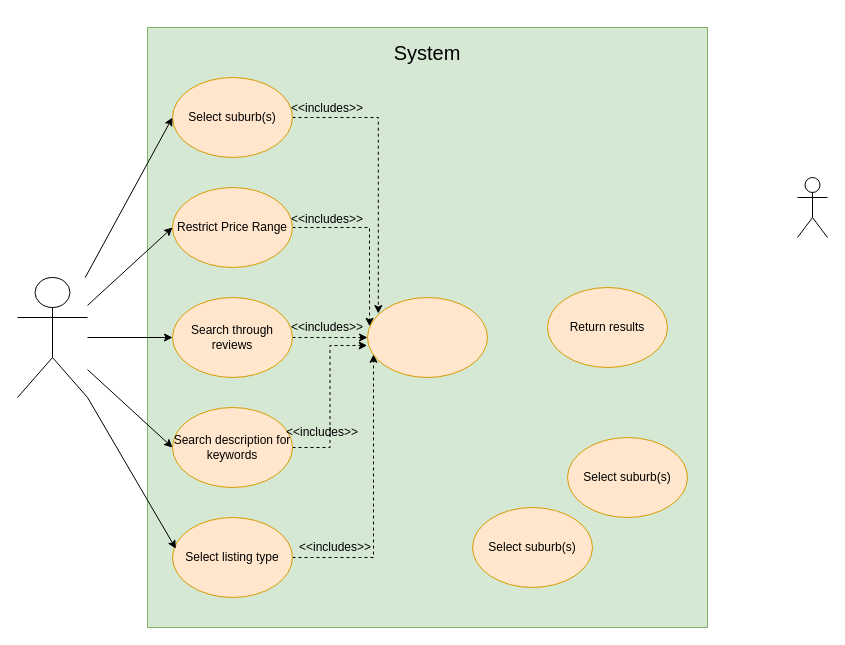
Some shapes in this 845 by 645 pixel diagram are drawn without their labels. The centre of each missing label's shape, as x and y in pixels:
"Actor" belongs at (812,207).
"Search Database" belongs at (427,337).
"User" belongs at (52,337).
